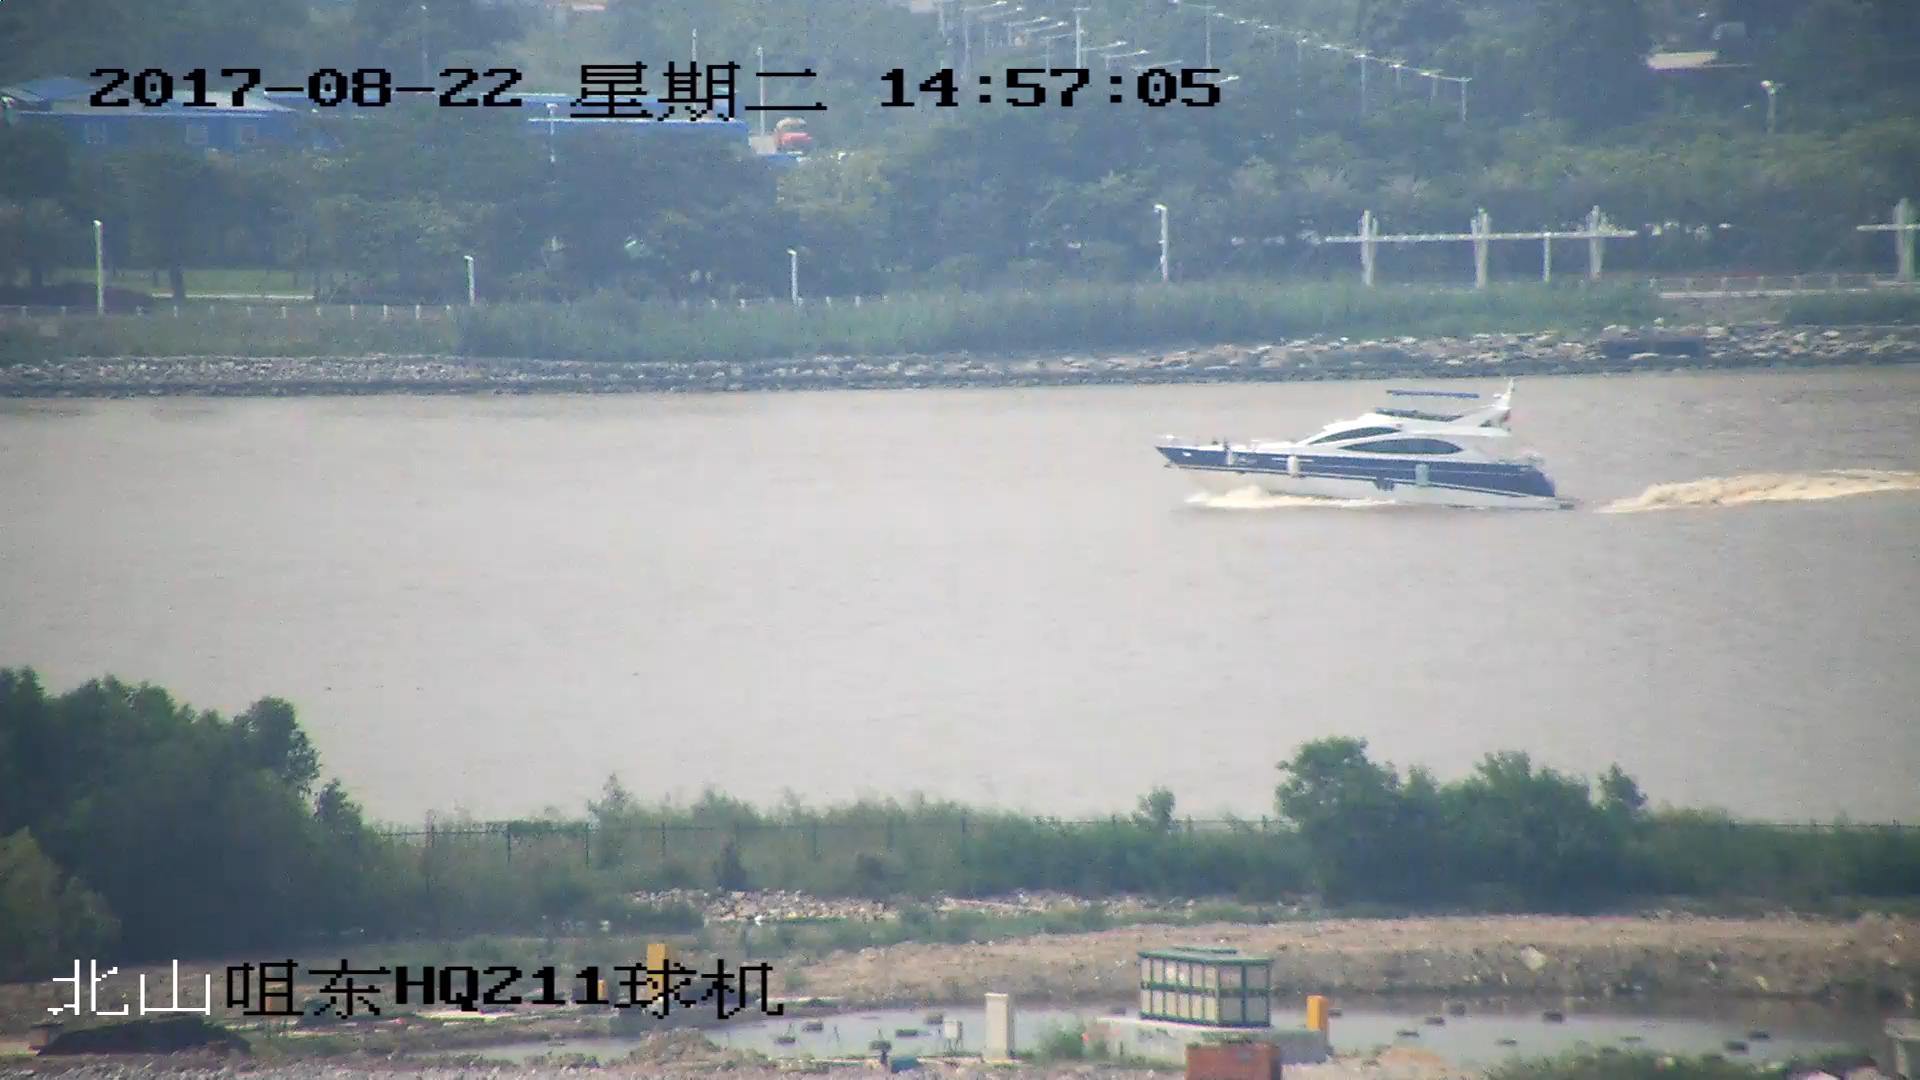passenger ship: (1156, 377, 1570, 519)
